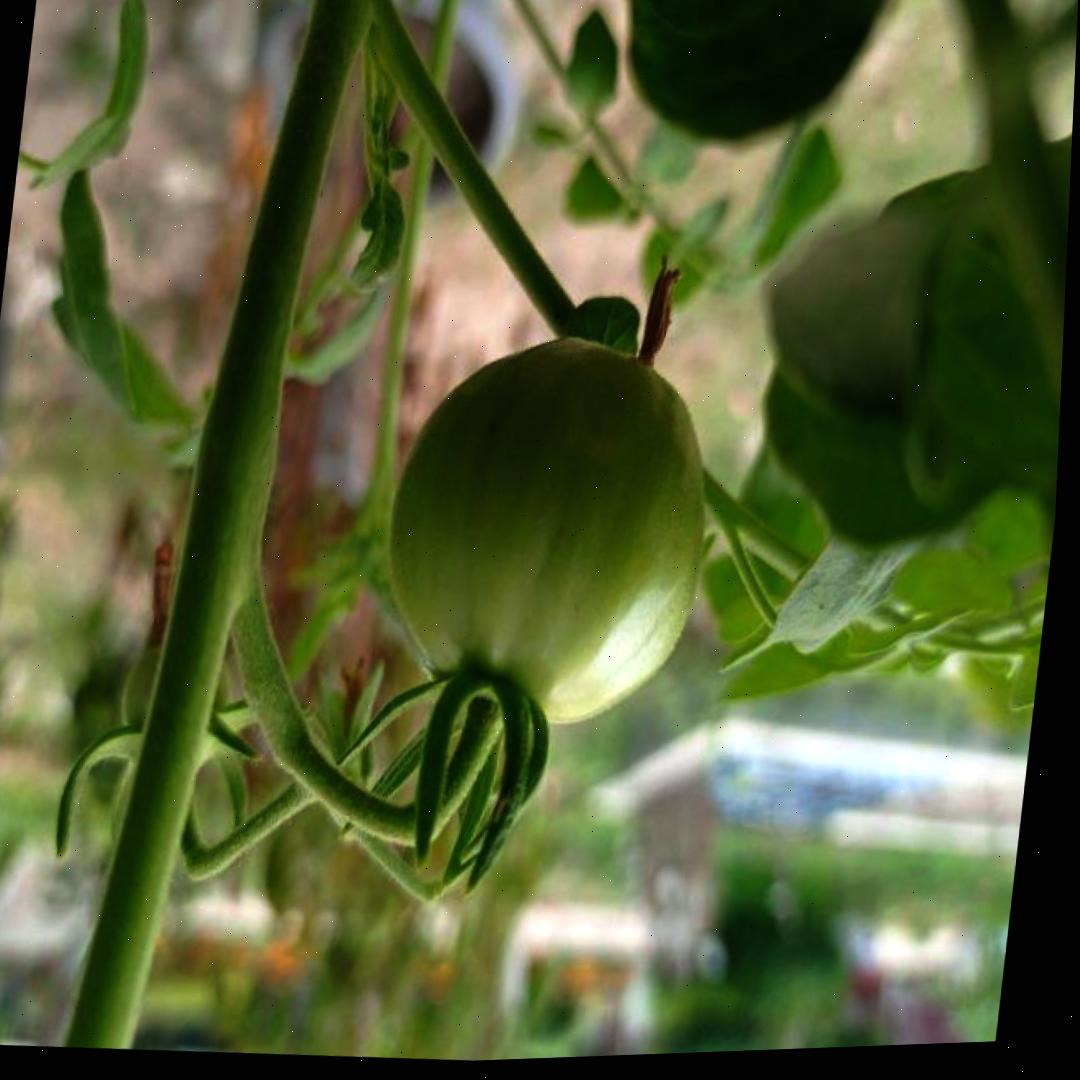mentah: (366, 316, 732, 750)
